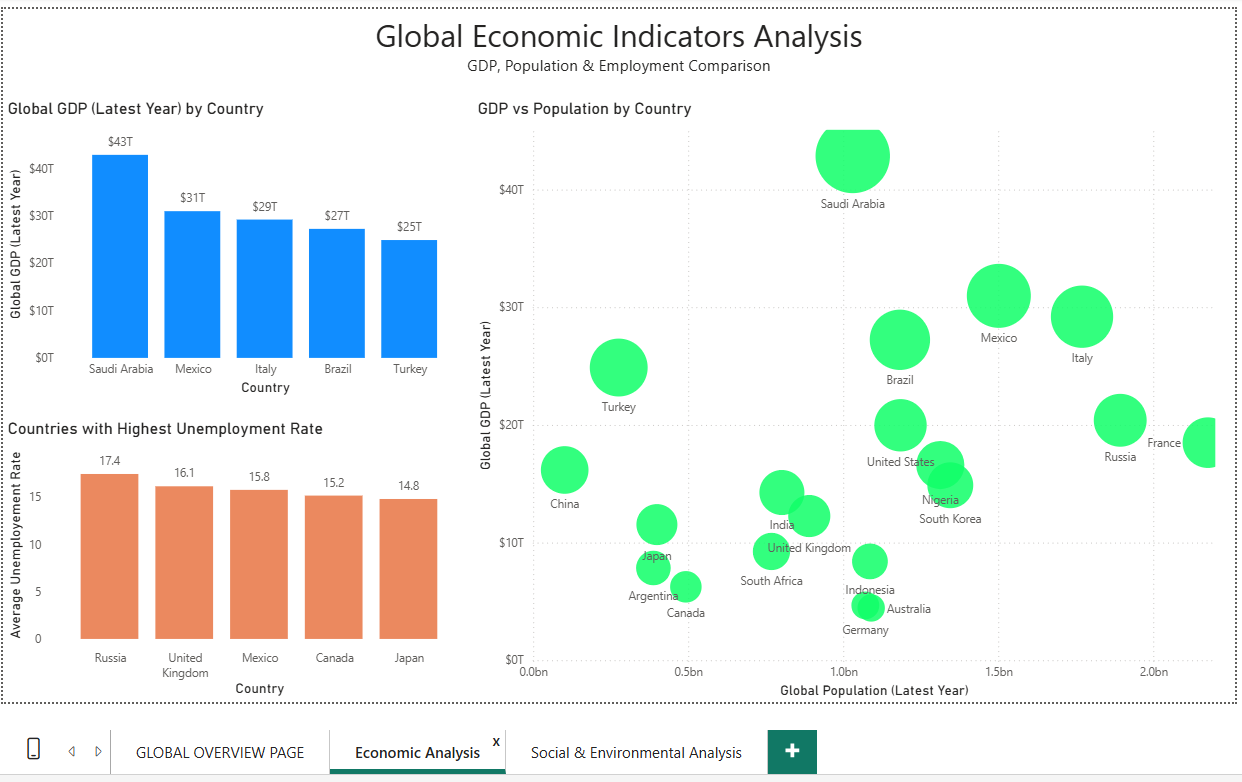

This screenshot's page, from the dashboard's own definition file:
{"tool":"powerbi","page":{"name":"Economic Analysis","canvas":[1280,720],"ordinal":1},"visuals":[{"type":"textbox","box":[0,0,1280,92.9],"z":0},{"type":"columnChart","fields":{"Y":["world_bank_dataset.Global GDP (Latest Year)"],"Category":["world_bank_dataset.Country"]},"box":[0,93.5,488.3,313],"z":1},{"type":"scatterChart","title":"GDP vs Population by Country","fields":{"X":["world_bank_dataset.Global Population (Latest Year)"],"Y":["world_bank_dataset.Global GDP (Latest Year)"],"Category":["world_bank_dataset.Country"],"Size":["world_bank_dataset.Global GDP (Latest Year)"]},"box":[488.6,92.9,791.4,627.1],"z":2},{"type":"columnChart","title":"Countries with Highest Unemployment Rate","fields":{"Y":["world_bank_dataset.Average Unemployement Rate"],"Category":["world_bank_dataset.Country"]},"box":[0,426,489.6,293.5],"z":3}]}

Visuals, with their boxes on the page's 1280x720 design canvas (x1, y1, x2, y2). These are canvas units, not pixel positions in the 1242x782 screenshot, which may show the page scaled, cropped or inside an application window:
textbox: bbox=[0, 0, 1280, 93]
columnChart - world_bank_dataset.Global GDP (Latest Year) x world_bank_dataset.Country: bbox=[0, 94, 488, 406]
"GDP vs Population by Country" scatterChart: bbox=[489, 93, 1280, 720]
"Countries with Highest Unemployment Rate" columnChart: bbox=[0, 426, 490, 720]
